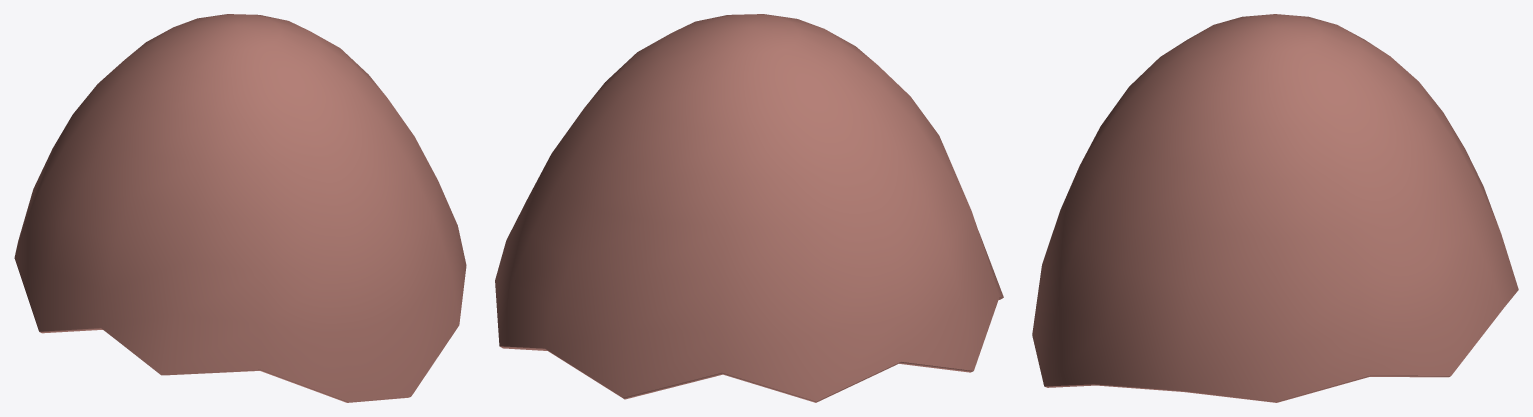
File: cracked_egg_top_model.fbx
The picture shows the model from 3 angles, left to right: view 1: azimuth 30°, elevation 25°; view 2: azimuth 150°, elevation 25°; view 3: azimuth 270°, elevation 25°; orthographic projection. The views are drawn at different scales.
Parts seen in each view (by area): view 1: cracked_egg_top; view 2: cracked_egg_top; view 3: cracked_egg_top.
Part boxes in pixels (x1,y1,x2,y2): cracked_egg_top: (14,14,466,402); cracked_egg_top: (495,14,1003,402); cracked_egg_top: (1032,14,1518,402).
Bounding box in the file's own units: 5.4 × 4.02 × 5.39.
